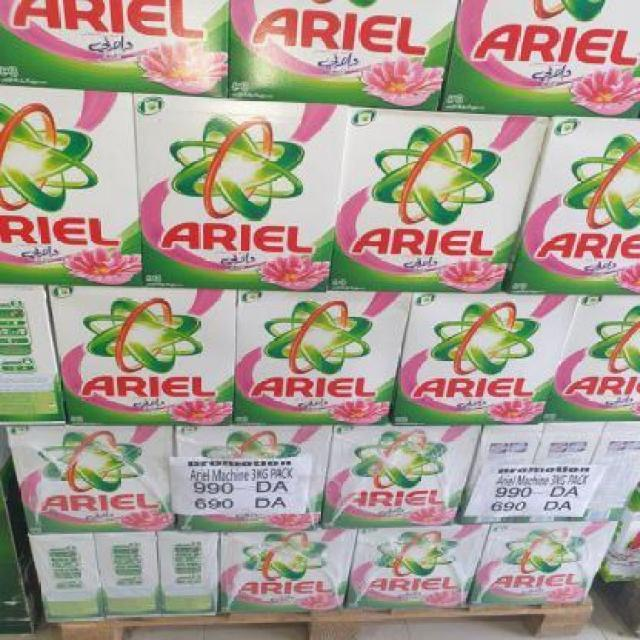Detergent: (135, 95, 335, 293), (338, 102, 522, 296), (0, 66, 135, 292), (57, 288, 237, 420), (240, 288, 397, 426), (395, 293, 546, 425), (18, 420, 166, 534), (327, 424, 465, 526), (352, 525, 483, 609), (477, 523, 600, 612), (550, 299, 639, 421), (226, 533, 352, 611)
